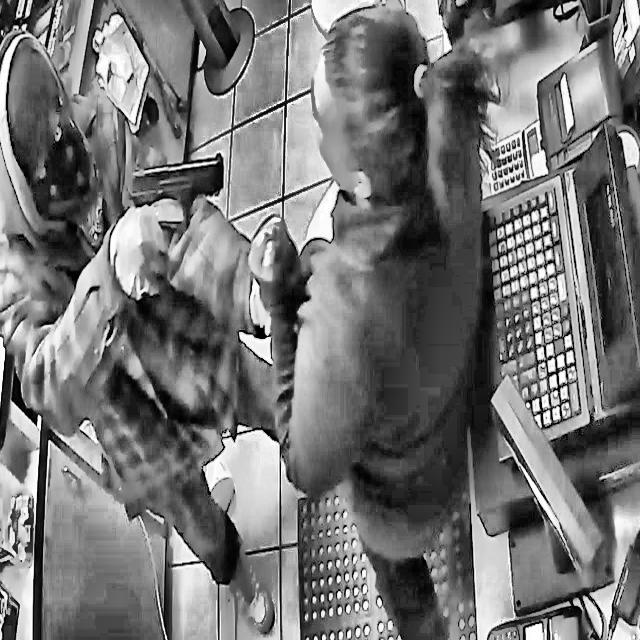pistol: (128, 150, 228, 298)
robbery: (0, 3, 502, 639)
